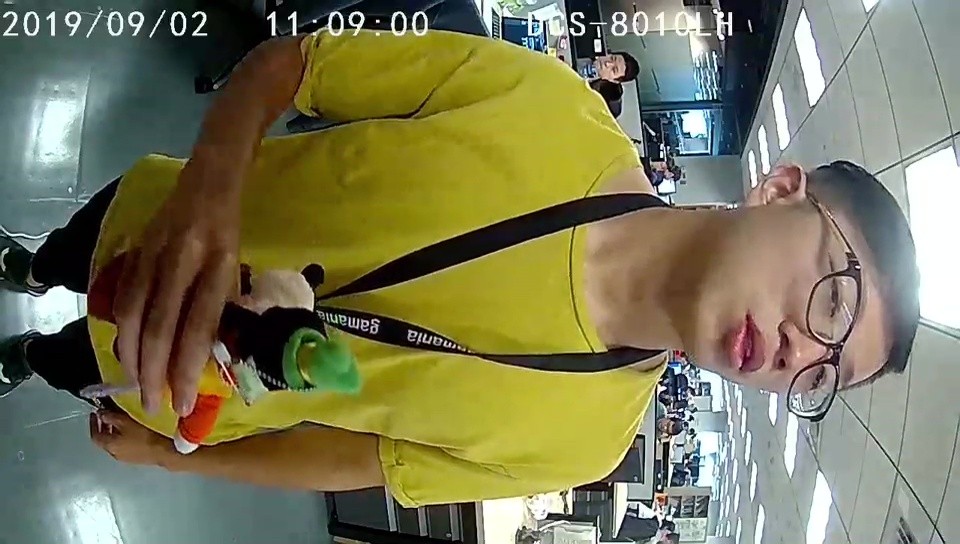goofy: (177, 295, 358, 451)
